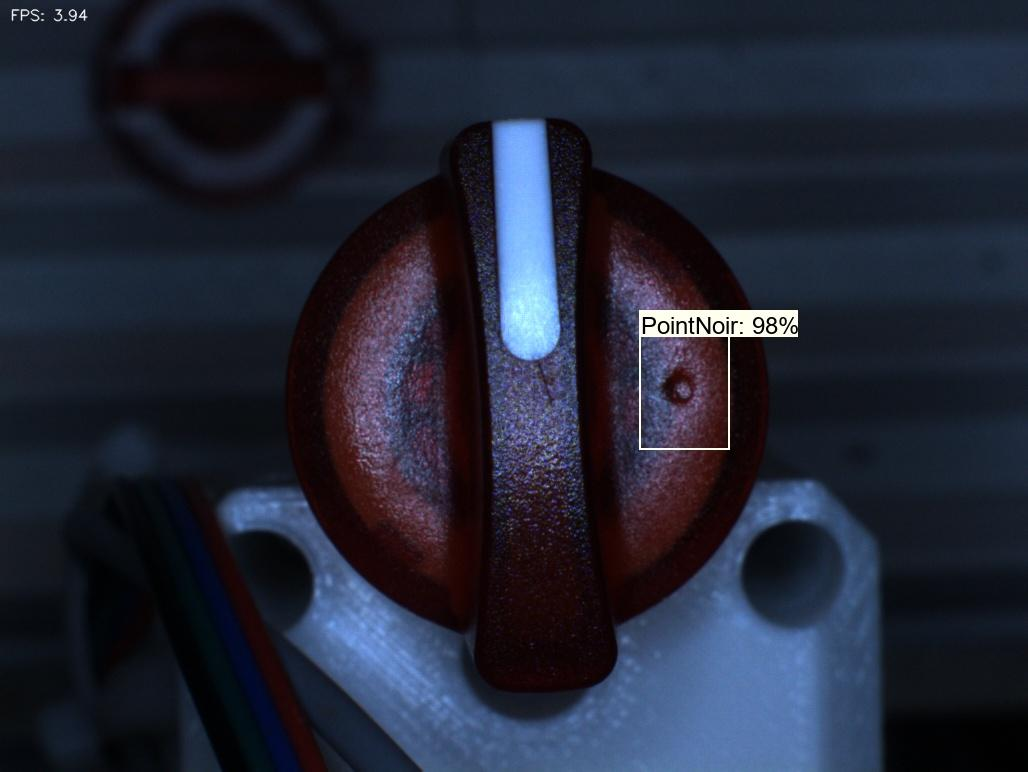Choc: (647, 346, 734, 427)
